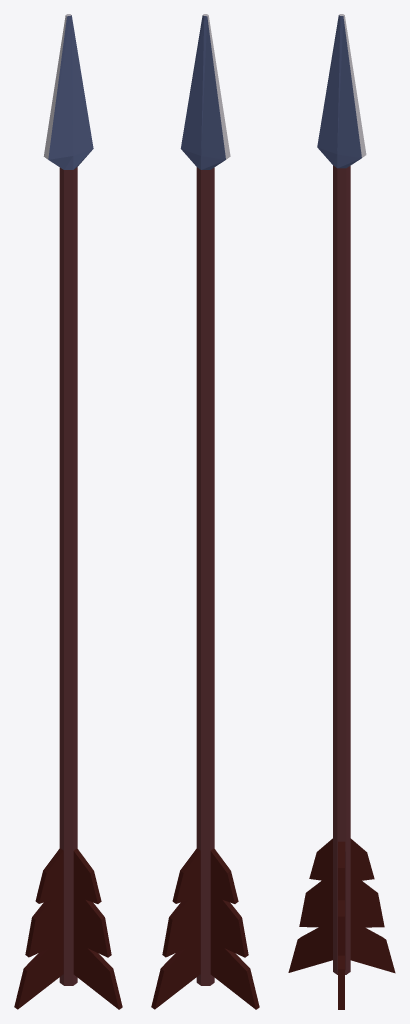
File: arrow.glb
3 renders of one model, left to right at view 1: azimuth 30°, elevation 25°; view 2: azimuth 150°, elevation 25°; view 3: azimuth 330°, elevation 25°, orthographic.
Parts seen in each view (by area): view 1: Arrow; view 2: Arrow; view 3: Arrow.
Boxes of the visible parts, box(x1,y1,x2,y2) form: Arrow: box(14, 14, 122, 1009); Arrow: box(151, 14, 259, 1009); Arrow: box(288, 14, 395, 1009).
Size of the model in its own units: 12.69 by 146 by 14.6.
